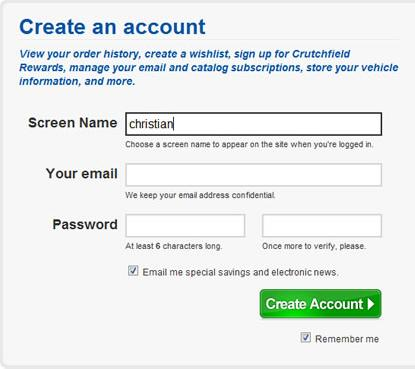button: (260, 288, 381, 320)
checkbox: (126, 262, 139, 278), (300, 330, 311, 344)
checkbox_with_label: (123, 260, 336, 279), (297, 328, 381, 346)
field: (124, 111, 383, 137), (122, 162, 382, 186), (124, 212, 244, 238), (261, 213, 382, 236)
field_with_label: (27, 110, 384, 138), (47, 160, 385, 187), (52, 211, 246, 239)
